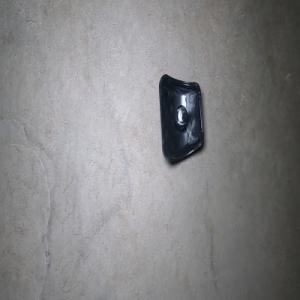LuggagePart: (158, 73, 204, 163)
